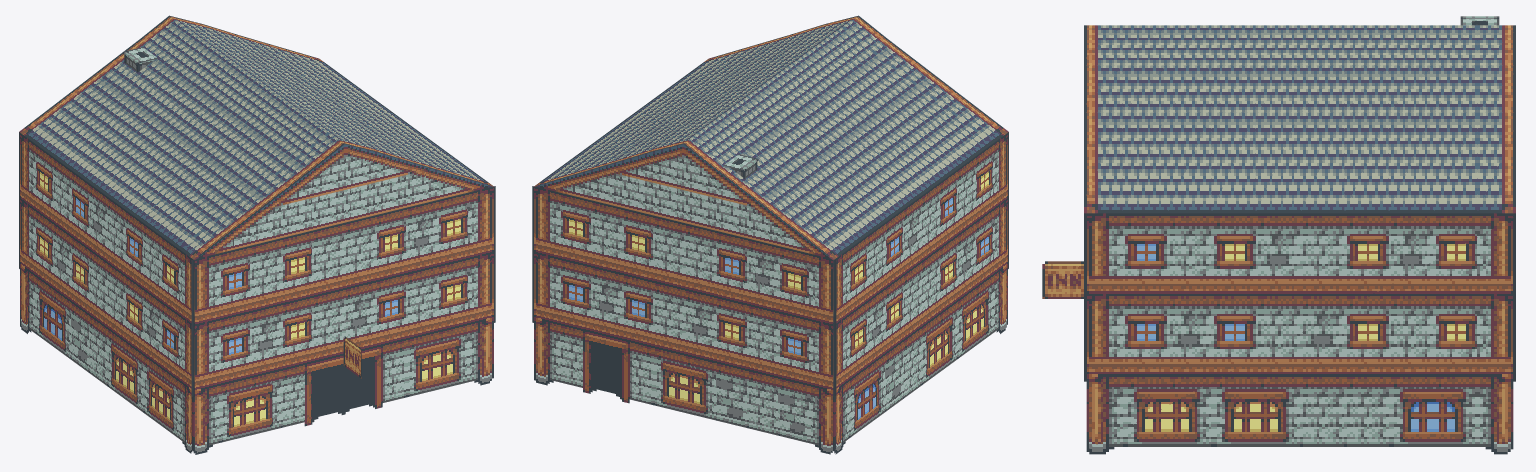
Rendered from Inn_1.gltf.
The picture shows the model from 3 angles, left to right: view 1: azimuth 30°, elevation 25°; view 2: azimuth 150°, elevation 25°; view 3: azimuth 270°, elevation 25°; orthographic projection. The views are drawn at different scales.
Bounding box in the file's own units: 10 × 8.44 × 10.81.
Materials: 1 (1 with a texture image).
